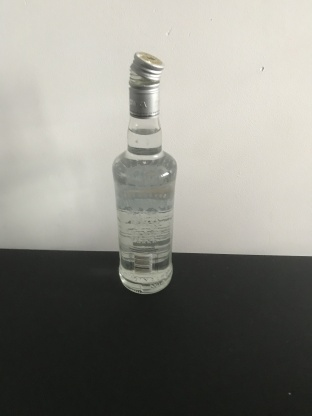nakretka: (127, 50, 165, 118)
